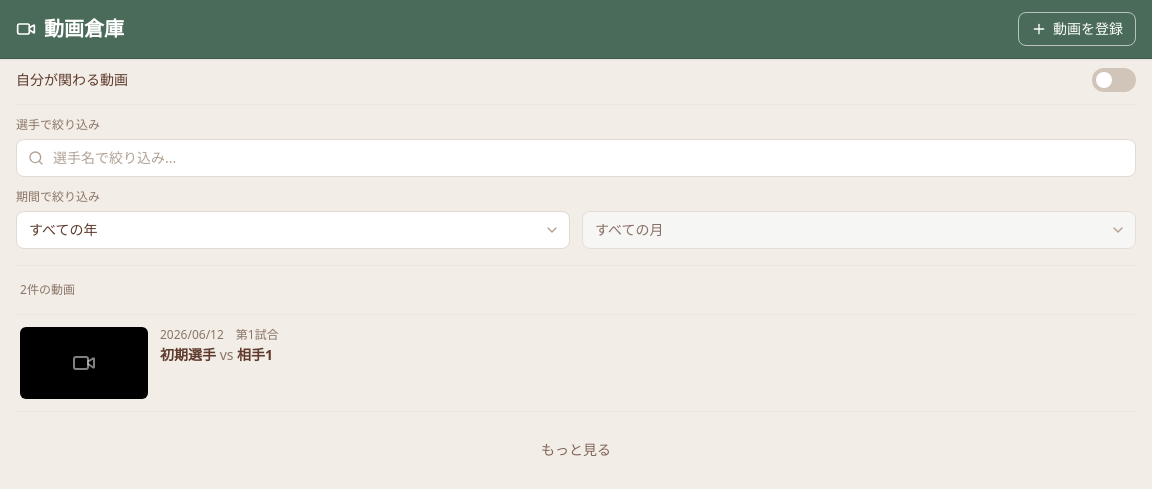
VideoLibrary - 検索条件変更時の取得競合 › 「もっと見る」の追記中に条件が変わると、古い追記レスポンスは破棄される
Check: the text "初期選手 vs 相手1" is shown, box [160, 345, 273, 364]
# もっと見るクリック（追記取得を保留状態にする）
Click the button "もっと見る" at (576, 450), box [16, 428, 1136, 472]
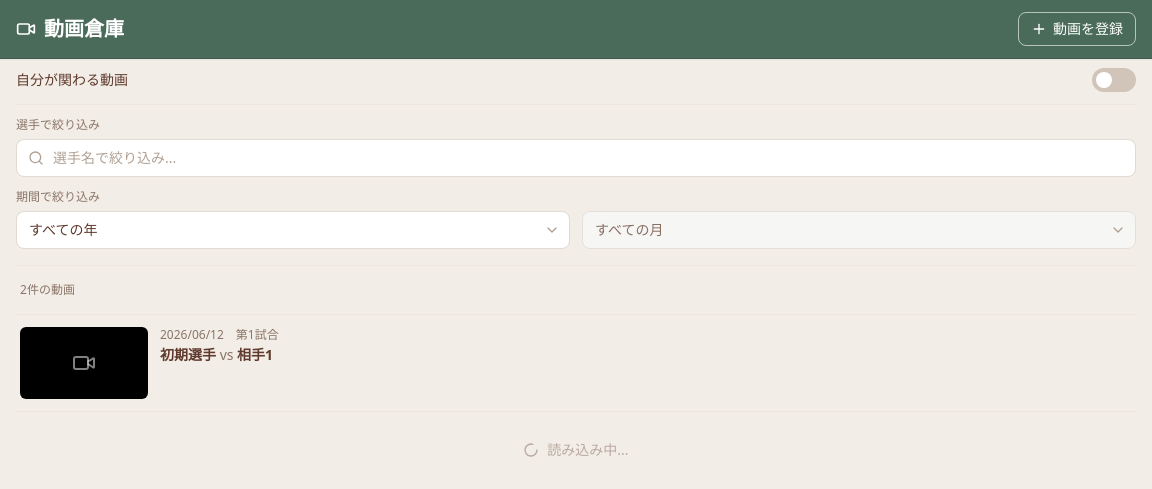
Click the button "自分が関わる動画" at (72, 80), box [16, 68, 1136, 105]
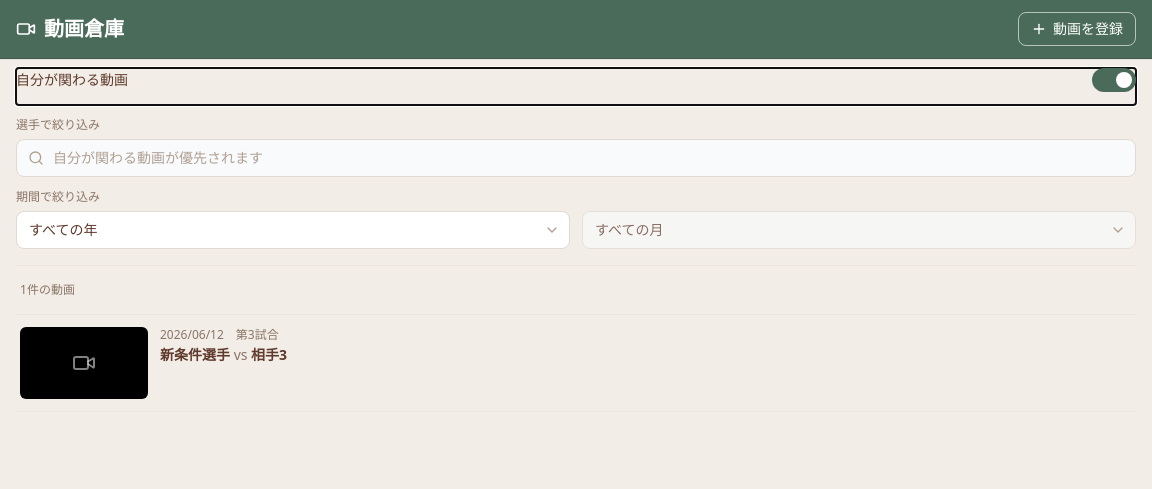
Check: the text "新条件選手 vs 相手3" is shown, box [160, 345, 287, 364]
Check: the button "初期選手" is gone
